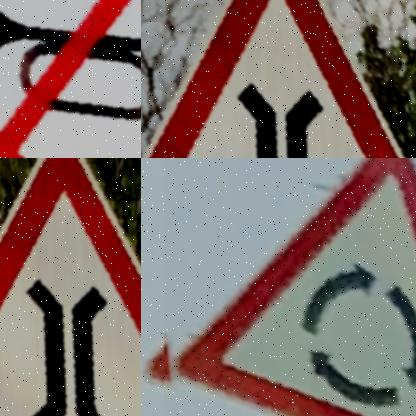Bridge Ahead: (141, 0, 402, 158)
No Horns: (0, 0, 141, 158)
Roundabout Ahead: (165, 158, 416, 416)
